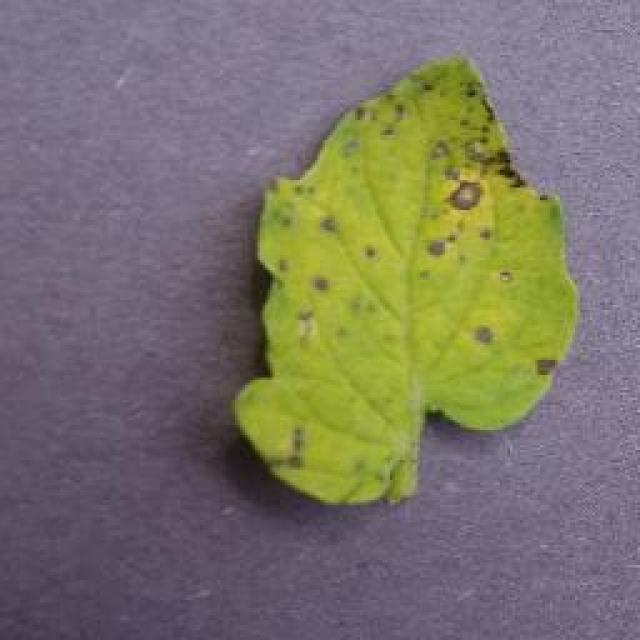Tomato target spot leaf: (236, 55, 584, 507)
